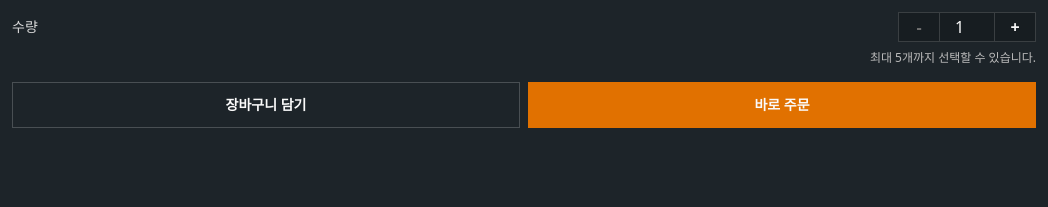
Test: GeneralItemOrderForm › shows the action error when adding to cart fails
The image size is (1048, 207).
Click the button "장바구니 담기" at (266, 105), box [12,82,520,128]
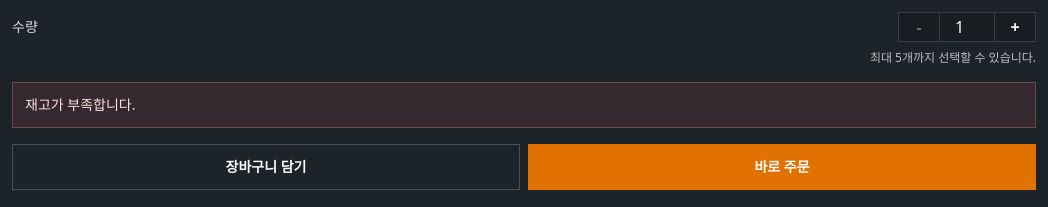
Now the text "재고가 부족합니다." is shown, box [12,82,1036,128]
